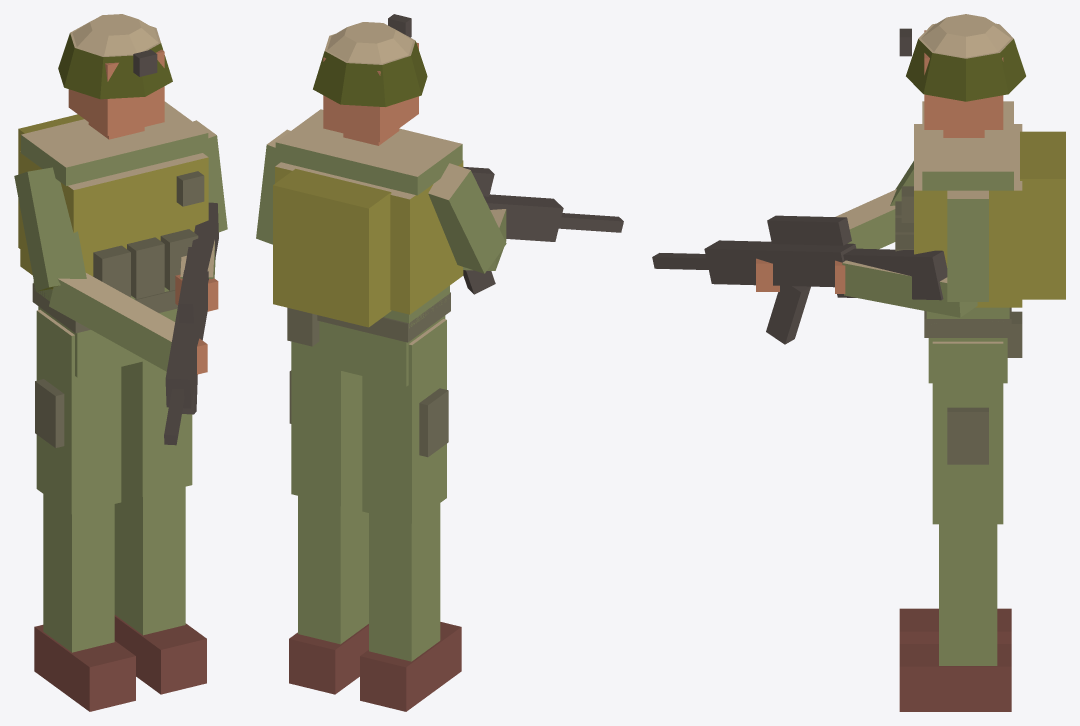
File: SM_SoldadoArmado_v0_G36E_Reposo_LOD0.fbx
3 views of the same model, side by side, from view 1: azimuth 30°, elevation 25°; view 2: azimuth 150°, elevation 25°; view 3: azimuth 270°, elevation 25° (orthographic).
Parts seen in each view (by area): view 1: SM_bloques.soldado_armado_v0_LOD0; view 2: SM_bloques.soldado_armado_v0_LOD0; view 3: SM_bloques.soldado_armado_v0_LOD0.
Part boxes in pixels (<box>): SM_bloques.soldado_armado_v0_LOD0: <box>14,14,227,711</box>; SM_bloques.soldado_armado_v0_LOD0: <box>256,14,623,711</box>; SM_bloques.soldado_armado_v0_LOD0: <box>652,14,1065,711</box>.
Bounding box in the file's own units: 0.5789 × 1.75 × 0.995.
